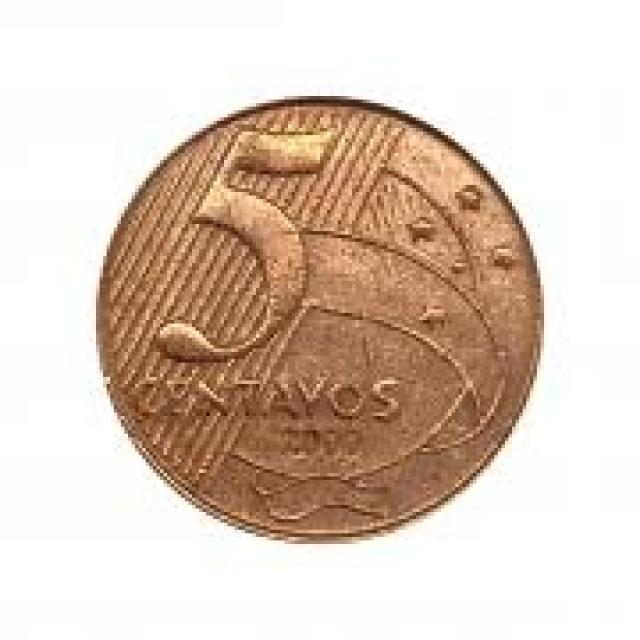5 cent: (105, 88, 545, 542)
